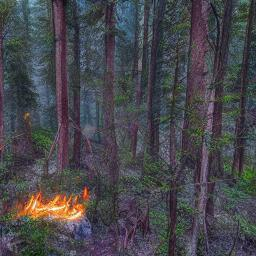Small fire: (18, 187, 86, 219)
